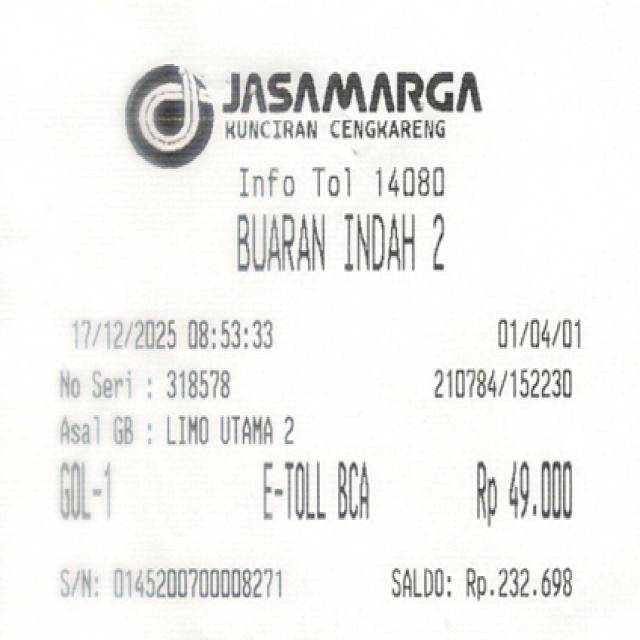date: (69, 318, 276, 352)
store: (210, 72, 493, 139)
total: (465, 457, 574, 521)
